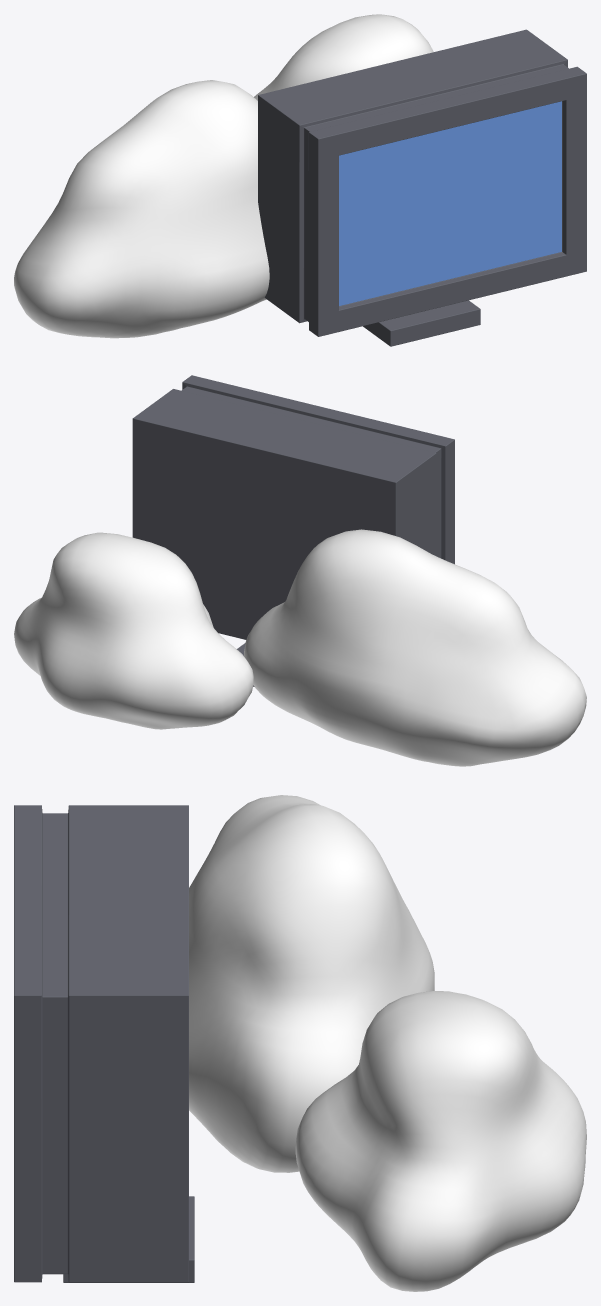
3 renders of one model, top to bottom at view 1: azimuth 30°, elevation 25°; view 2: azimuth 150°, elevation 25°; view 3: azimuth 270°, elevation 25°, orthographic. The views are drawn at different scales.
Parts seen in each view (by area): view 1: 机身, 云1_1_1, 屏幕, 云1_1; view 2: 云1_1_1, 机身, 云1_1; view 3: 机身, 云1_1_1, 云1_1.
Part boxes in pixels (x1,y1,x2,y2): 机身: (258,29,586,346); 云1_1_1: (14,80,269,338); 屏幕: (339,101,561,305); 云1_1: (254,14,433,100); 云1_1_1: (244,529,586,766); 机身: (132,375,454,686); 云1_1: (14,532,253,729); 机身: (14,805,194,1282); 云1_1_1: (189,795,434,1172); 云1_1: (295,990,586,1291).
Size of the model in its own units: 3.81 by 1.72 by 2.54.
